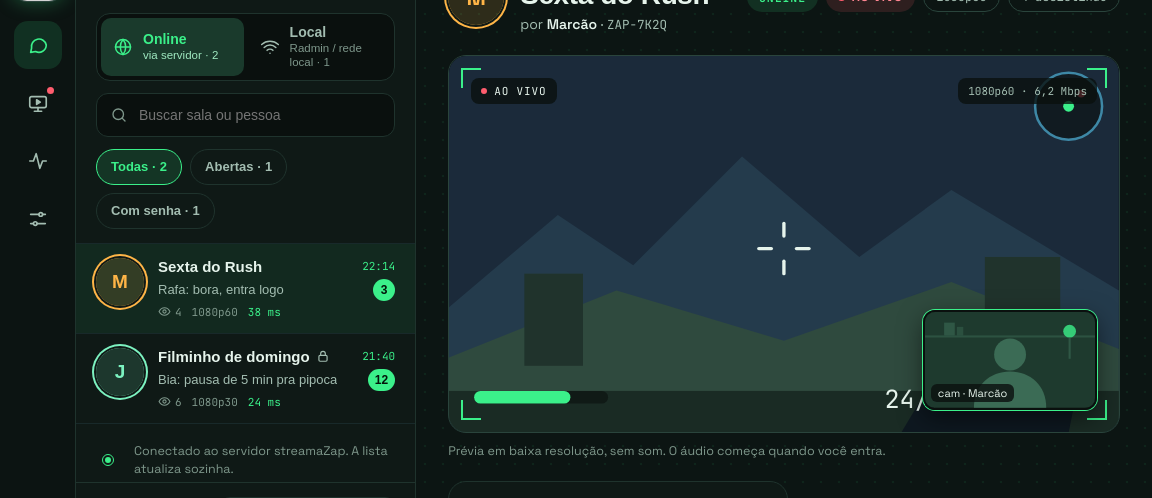
Test: App · login por conta no mock › (b) fluxo por e-mail com código certo e código errado
Click the button named "Configurações". click: (38, 219)
box: x1=14 y1=195 x2=62 y2=243
(page scrolled)
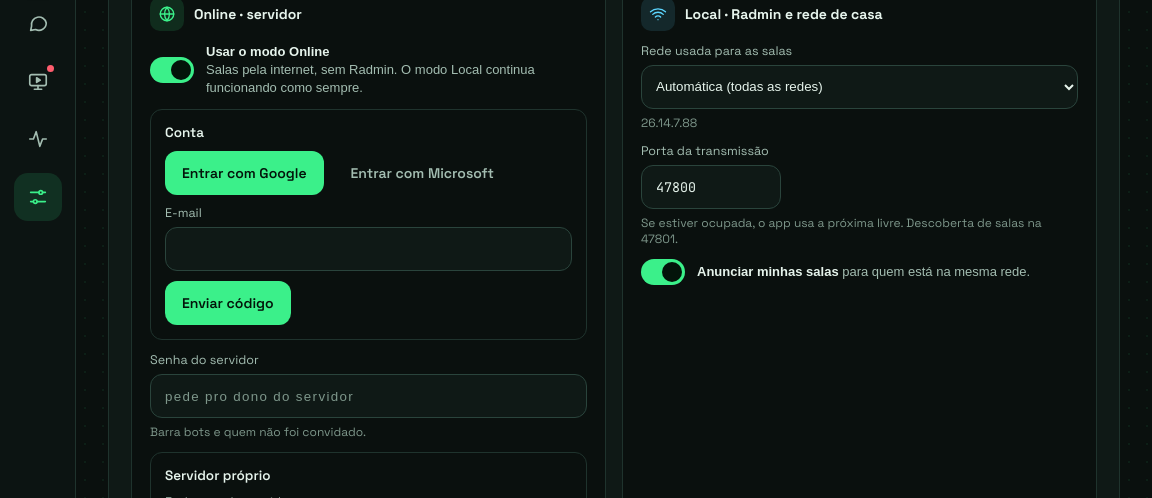
Type "voce@exemplo.com" into the field labelled "E-mail". click: (368, 249)
box: x1=165 y1=227 x2=572 y2=271
Click the button "Enviar código". click: (228, 303)
box: x1=165 y1=281 x2=291 y2=325
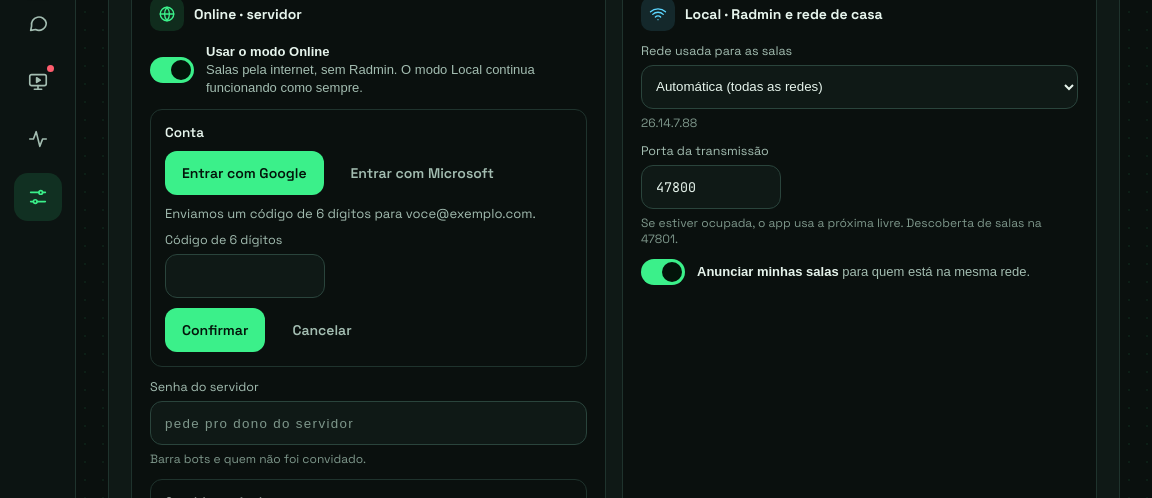
Type "000000" into the field labelled "Código de 6 dígitos". click: (245, 276)
box: x1=165 y1=254 x2=325 y2=298
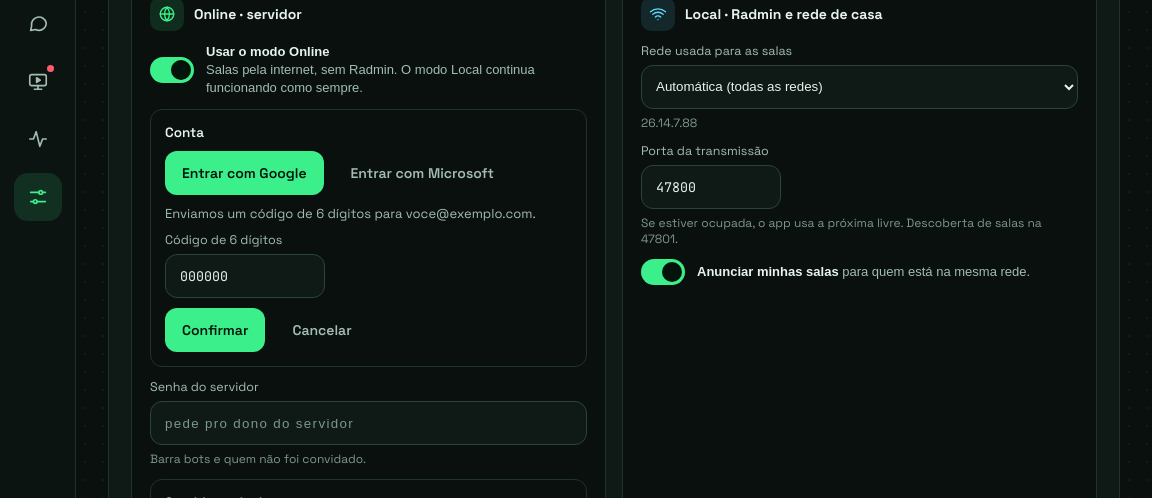
Click the button "Confirmar". click: (215, 330)
box: x1=165 y1=308 x2=265 y2=352
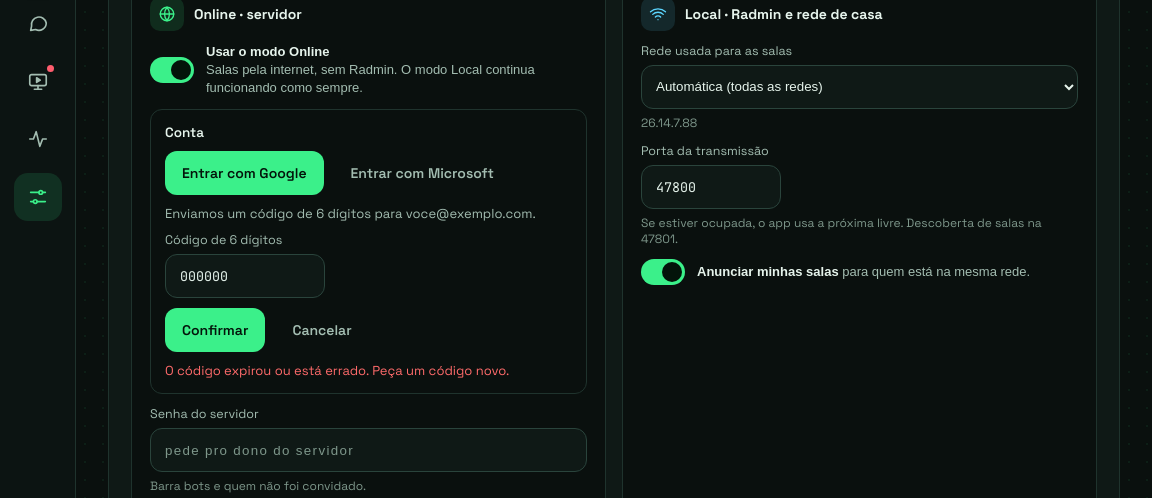
Now the message shows "O código expirou ou está errado.", box x1=165 y1=362 x2=509 y2=379
Replace the text in the field labelled "Código de 6 dígitos" with "123456". click: (245, 276)
box: x1=165 y1=254 x2=325 y2=298
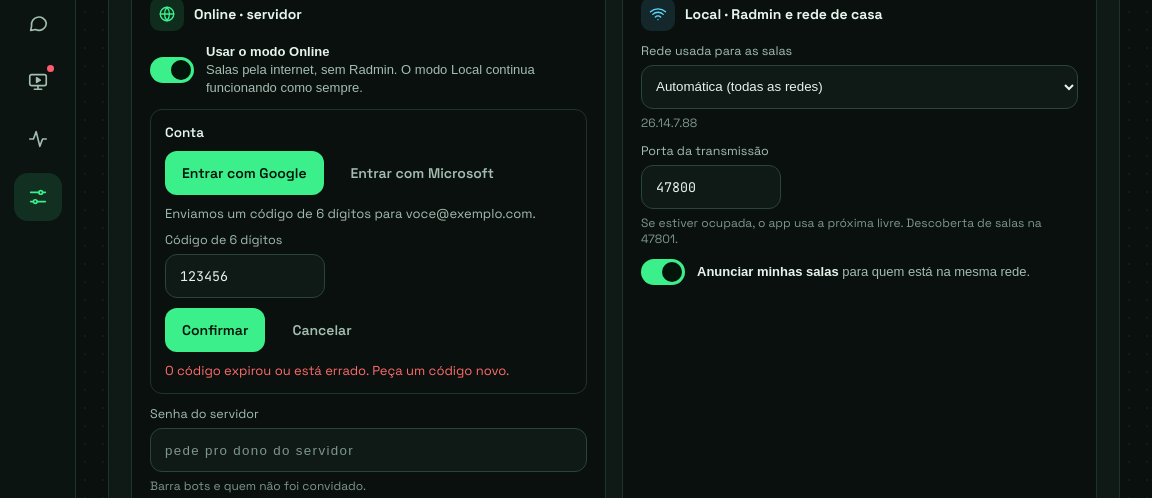
Click the button "Confirmar". click: (215, 330)
box: x1=165 y1=308 x2=265 y2=352
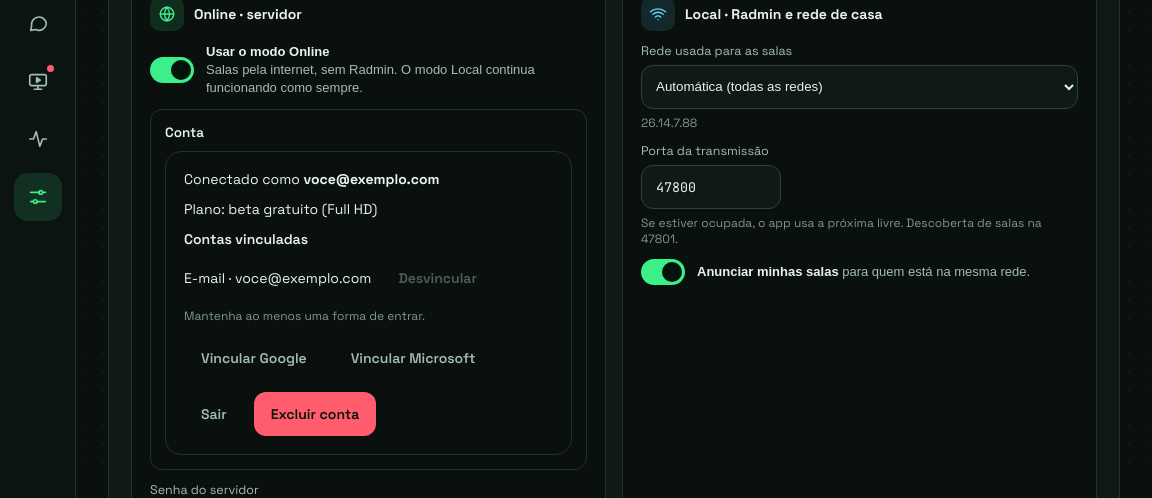
Now the text "Conectado como voce@exemplo.com" is shown, box x1=184 y1=170 x2=439 y2=188
